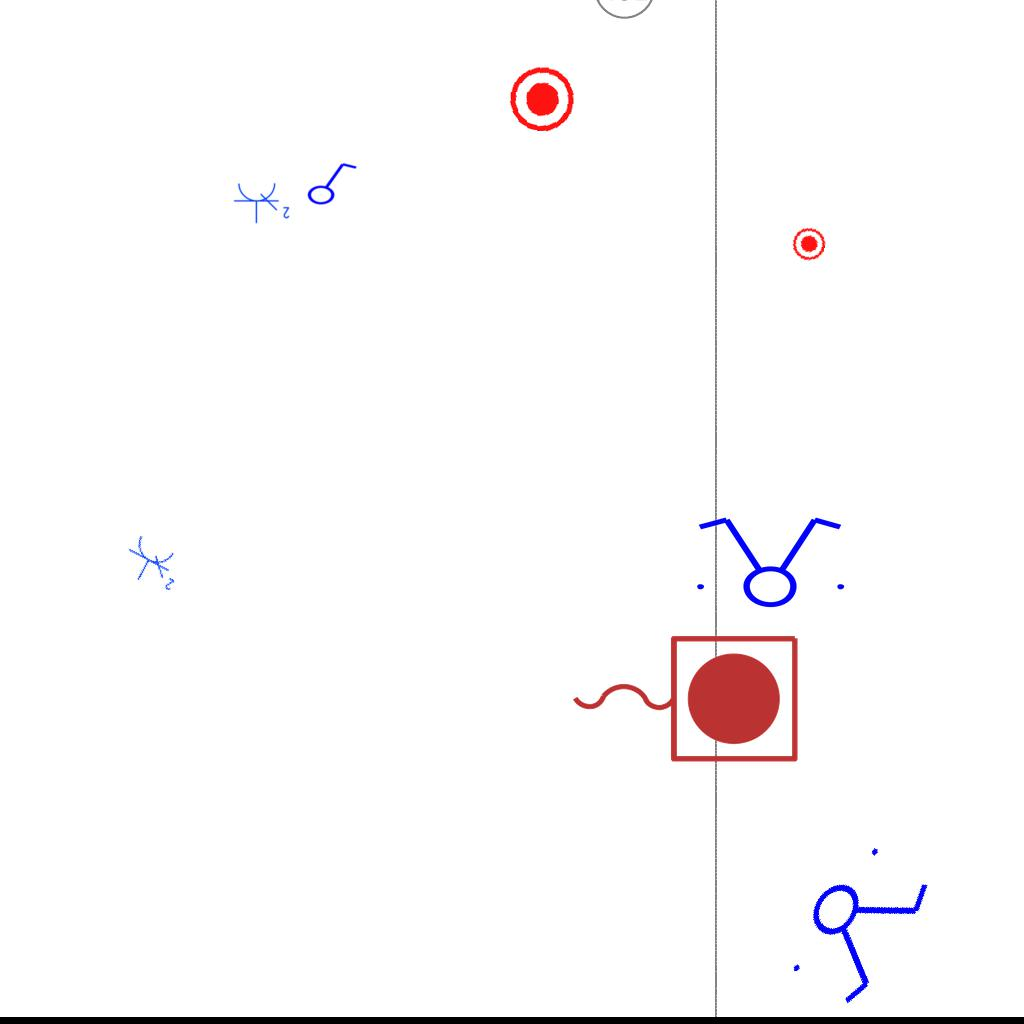Ausschalter: (302, 158, 358, 206)
Schukosteckdose_mehrfach: (117, 530, 191, 598), (233, 180, 293, 224)
Serienschalter: (771, 826, 945, 1020), (685, 513, 853, 609)
Taster: (506, 61, 580, 135), (788, 223, 829, 264)
Zugtaster: (562, 625, 806, 769)
